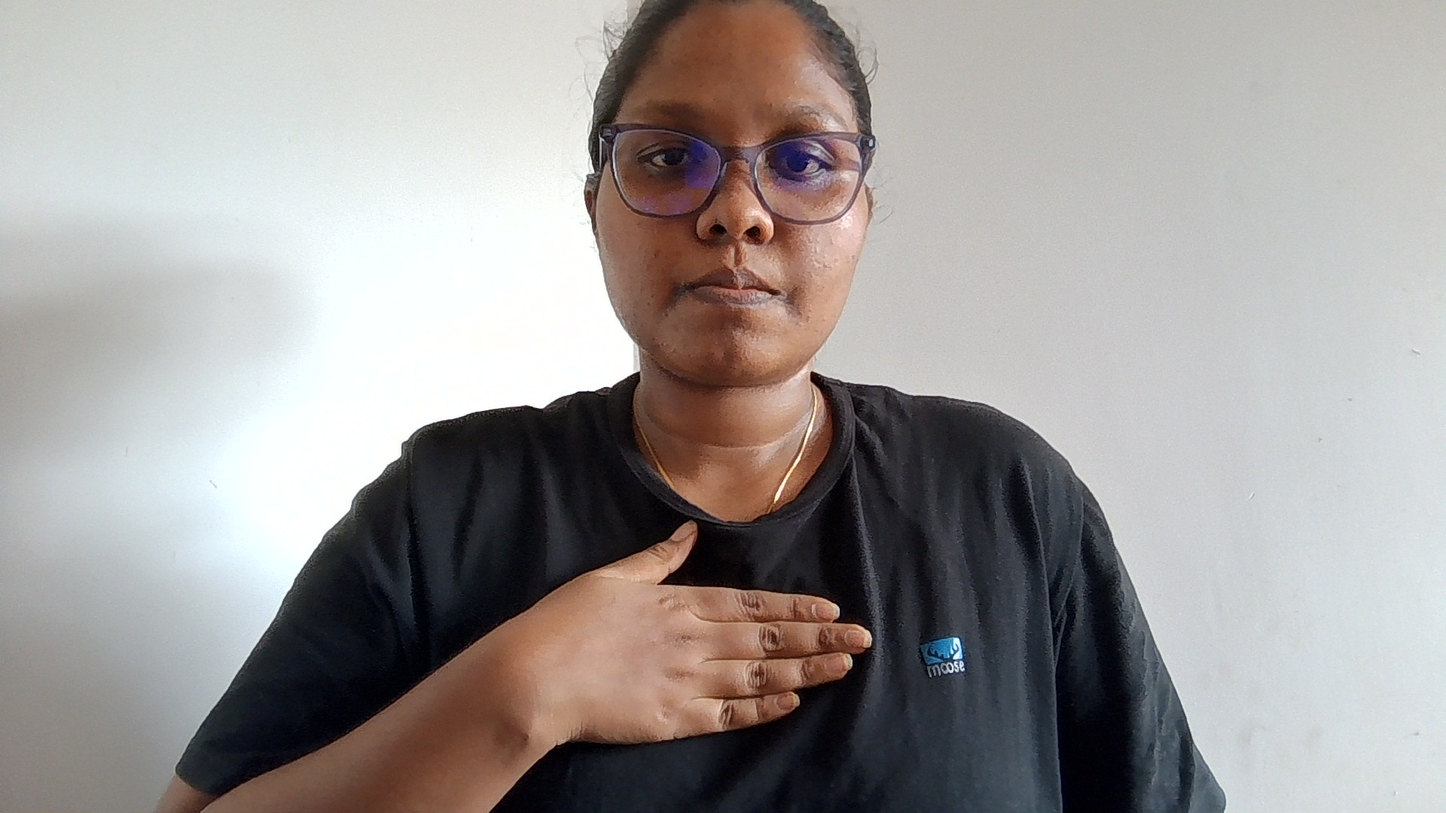Please: (446, 496, 957, 778)
